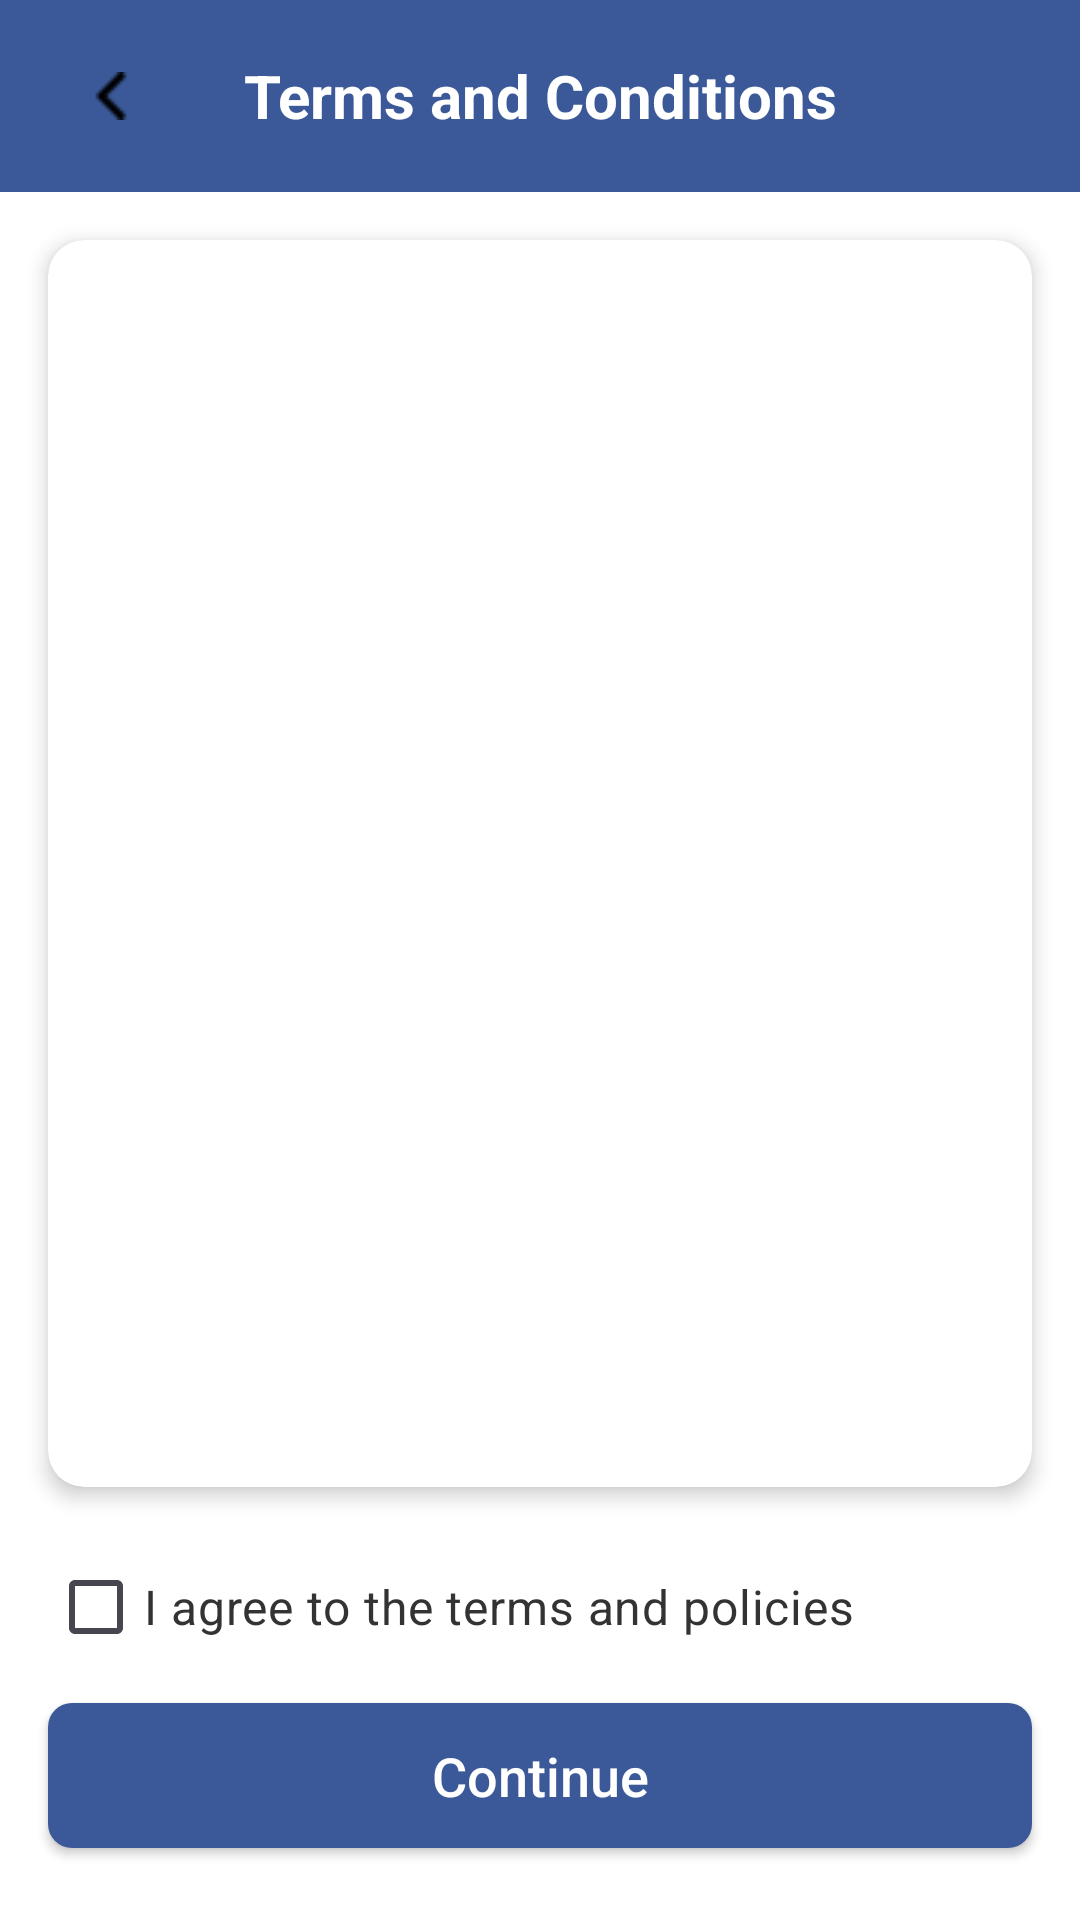

Icon bounding boxes for this 1080px×1920px phone screenshot, format box(x1, y1, x2, y2):
Back: box(96, 72, 127, 120)
